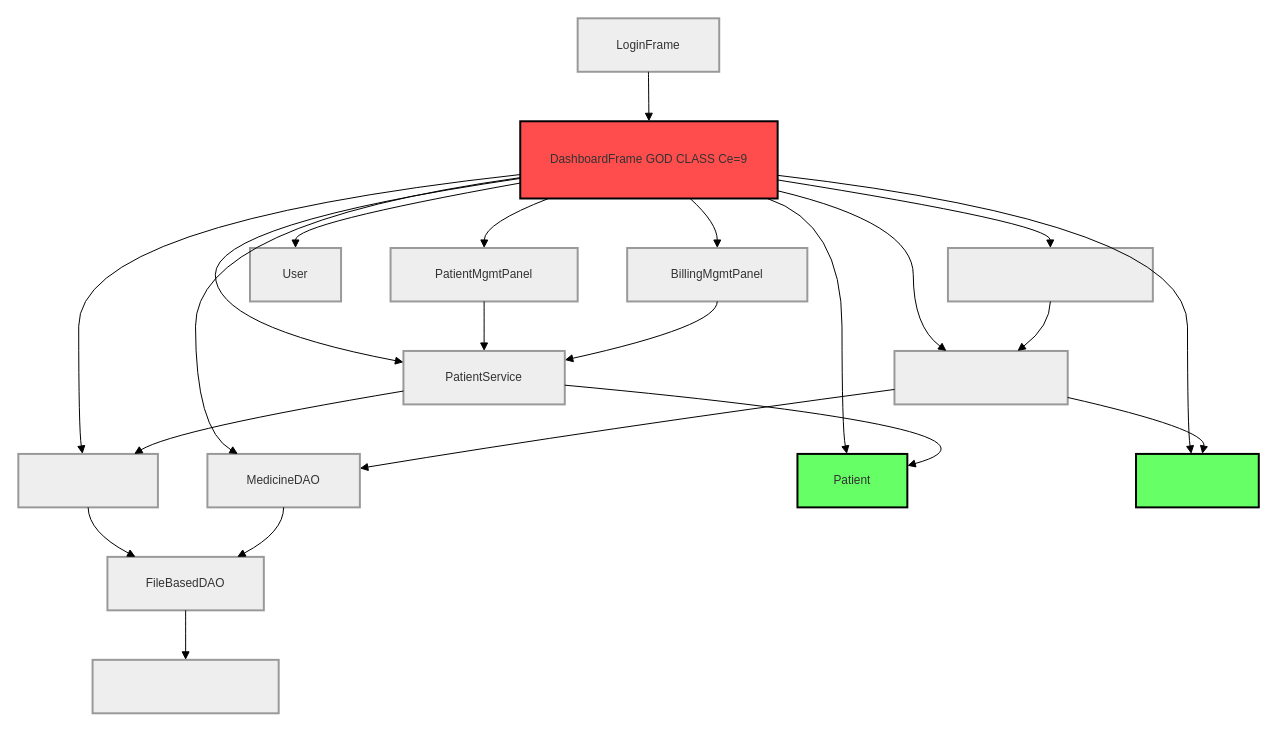
Some shapes in this 1276 by 731 pixel diagram are drawn without their labels. Each missing label, with the centre of its shape:
"DataAccessObject" belongs at [185,686].
"Medicine" belongs at [1197,480].
"MedicineService" belongs at [980,377].
"PatientDAO" belongs at [87,480].
"PharmacyMgmtPanel" belongs at [1049,274].
